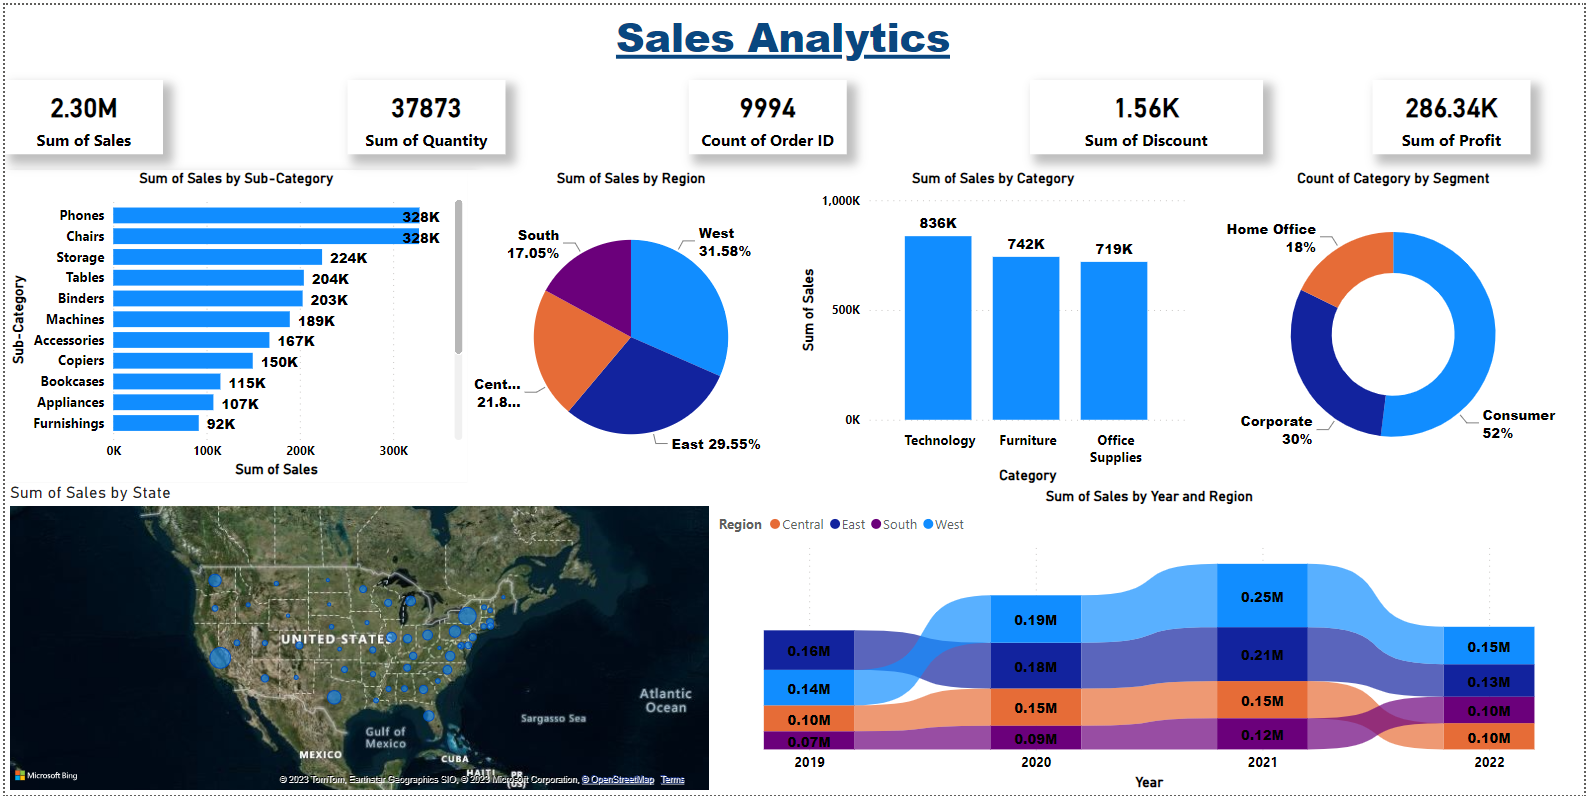

This screenshot's page, from the dashboard's own definition file:
{"tool":"powerbi","page":{"name":"Page 1","canvas":[1600,800],"ordinal":0},"visuals":[{"type":"barChart","fields":{"Category":["Combined data.Sub-Category"],"Y":["Sum(Combined data.Sales)"]},"box":[0,167.1,468.5,316.4],"z":0},{"type":"columnChart","fields":{"Category":["Combined data.Category"],"Y":["Sum(Combined data.Sales)"]},"box":[800,167.1,401.4,321.9],"z":1000},{"type":"pieChart","fields":{"Category":["Combined data.Region"],"Y":["Sum(Combined data.Sales)"]},"box":[468.5,167.1,331.5,321.9],"z":2000},{"type":"donutChart","fields":{"Category":["Combined data.Segment"],"Y":["CountNonNull(Combined data.Category)"]},"box":[1211,167.1,389,316.4],"z":3000},{"type":"ribbonChart","fields":{"Category":["Combined data.Order Date.Variation.Date Hierarchy.Year","Combined data.Order Date.Variation.Date Hierarchy.Quarter","Combined data.Order Date.Variation.Date Hierarchy.Month","Combined data.Order Date.Variation.Date Hierarchy.Day"],"Y":["Sum(Combined data.Sales)"],"Series":["Combined data.Region"]},"box":[717.8,489,882.2,311],"z":4000},{"type":"map","fields":{"Category":["Combined data.State"],"Size":["Sum(Combined data.Sales)"]},"box":[0,483.6,717.8,316.4],"z":5000},{"type":"actionButton","box":[457.5,0,661.6,57.5],"z":6000},{"type":"card","fields":{"Values":["Sum(Combined data.Sales)"]},"box":[0,75.3,160,75],"z":7000},{"type":"card","fields":{"Values":["Sum(Combined data.Quantity)"]},"box":[346.2,75.3,160,75],"z":8000},{"type":"card","fields":{"Values":["Sum(Combined data.Discount)"]},"box":[1038.4,75.3,235.6,75.3],"z":9000},{"type":"card","fields":{"Values":["Sum(Combined data.Profit)"]},"box":[1384.9,75.3,160,75],"z":10000},{"type":"card","fields":{"Values":["CountNonNull(Combined data.Order ID)"]},"box":[692.5,75.3,160,75],"z":11000}]}

Visuals, with their boxes in screenshot pixels (x1, y1, x2, y2), scaled from the page's 1600x800 canvas onto the 1587x797 screenshot:
barChart - Combined data.Sub-Category x Sum(Combined data.Sales): region(0, 166, 465, 482)
columnChart - Combined data.Category x Sum(Combined data.Sales): region(794, 166, 1192, 487)
pieChart - Combined data.Region x Sum(Combined data.Sales): region(465, 166, 794, 487)
donutChart - Combined data.Segment x CountNonNull(Combined data.Category): region(1201, 166, 1586, 482)
ribbonChart - Combined data.Order Date.Variation.Date Hierarchy.Year x Combined data.Order Date.Variation.Date Hierarchy.Quarter: region(712, 487, 1586, 796)
map - Combined data.State x Sum(Combined data.Sales): region(0, 482, 712, 796)
actionButton: region(454, 0, 1110, 57)
card - Sum(Combined data.Sales): region(0, 75, 159, 150)
card - Sum(Combined data.Quantity): region(343, 75, 502, 150)
card - Sum(Combined data.Discount): region(1030, 75, 1264, 150)
card - Sum(Combined data.Profit): region(1374, 75, 1532, 150)
card - CountNonNull(Combined data.Order ID): region(687, 75, 846, 150)
